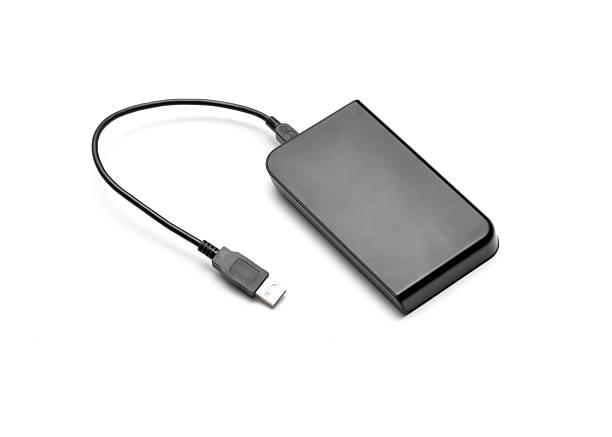HDD: (264, 100, 501, 319)
